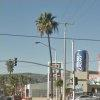Palm tree: (28, 8, 61, 62)
